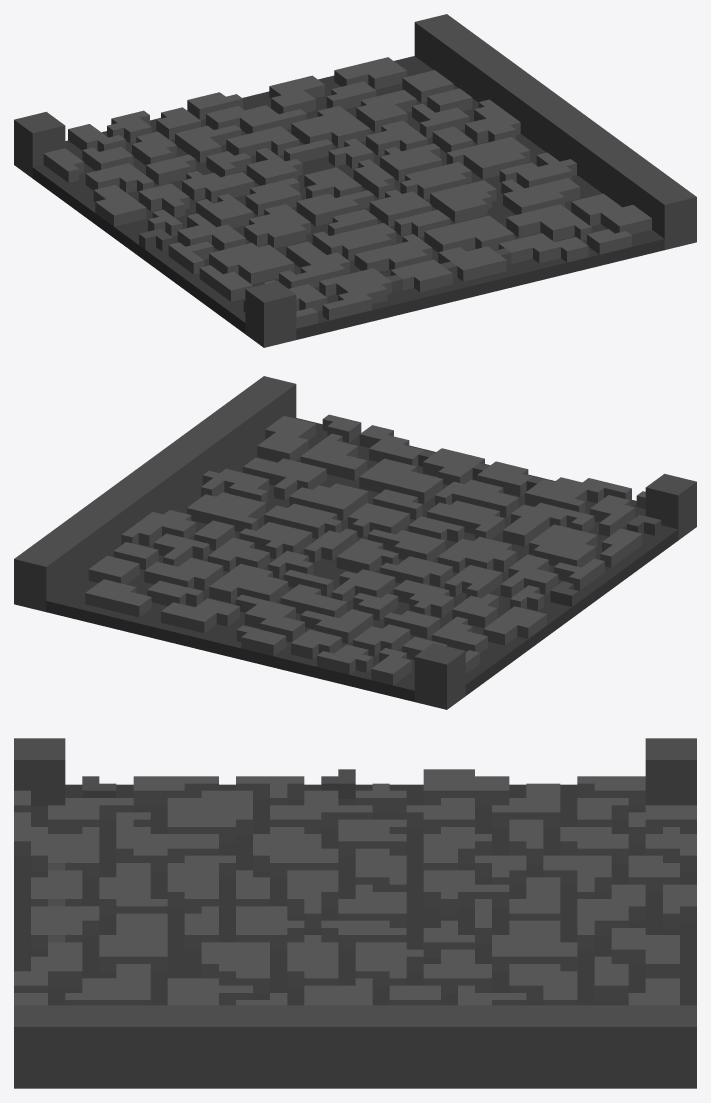
Rendered from Rock Path T.obj.
3 renders of one model, top to bottom at view 1: azimuth 30°, elevation 25°; view 2: azimuth 150°, elevation 25°; view 3: azimuth 270°, elevation 25°, orthographic. The views are drawn at different scales.
Bounding box in the file's own units: 4 × 0.4 × 4.
Materials: 1 (1 with a texture image).
